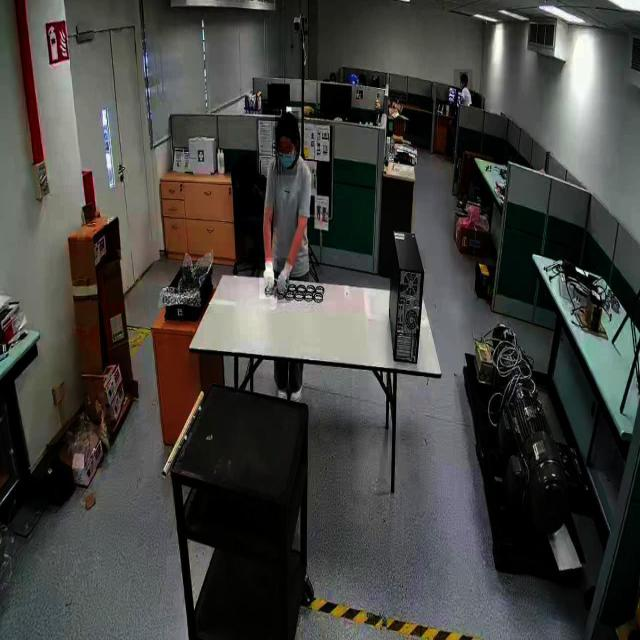face_mask: (277, 141, 297, 175)
glasses: (275, 146, 293, 162)
hand_glove: (277, 258, 291, 304), (260, 258, 274, 300)
head_nohelmet: (275, 111, 299, 135), (460, 72, 468, 79)
person: (261, 97, 324, 298), (453, 69, 473, 103)
